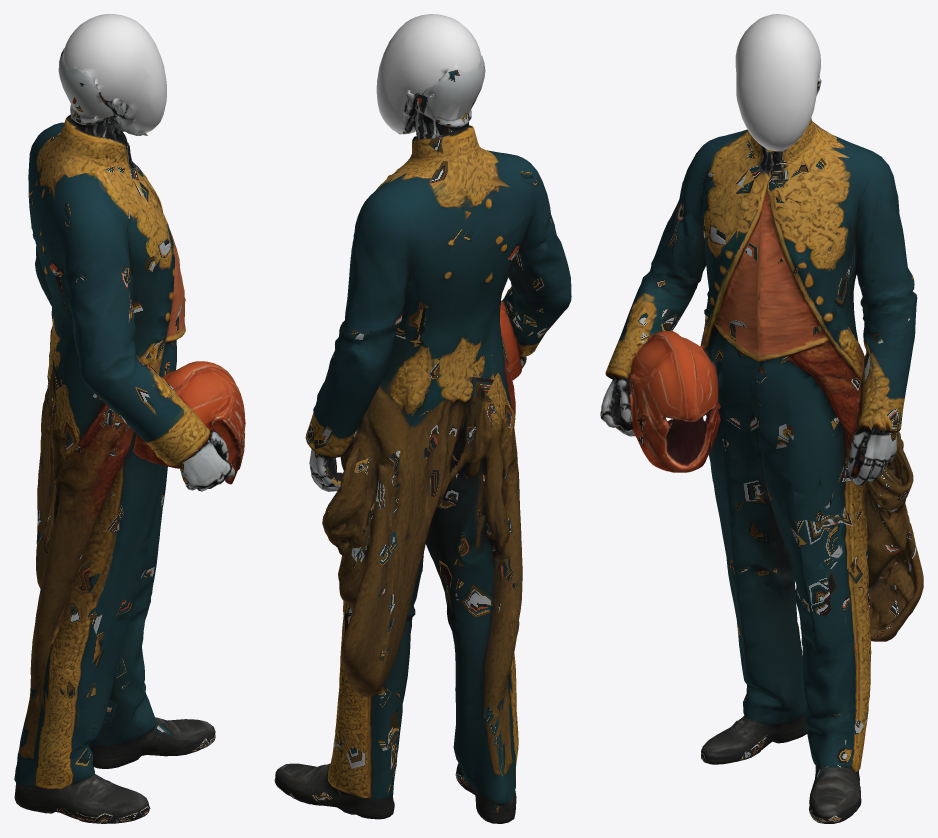
File: mainscene.gltf
The picture shows the model from 3 angles, left to right: view 1: azimuth 30°, elevation 25°; view 2: azimuth 150°, elevation 25°; view 3: azimuth 270°, elevation 25°; orthographic projection. The views are drawn at different scales.
Visible parts, largest first — view 1: tripo_node_f875dcff-99cd-4471-be17-70973e1d8990; view 2: tripo_node_f875dcff-99cd-4471-be17-70973e1d8990; view 3: tripo_node_f875dcff-99cd-4471-be17-70973e1d8990.
Boxes of the visible parts, x1=… form: tripo_node_f875dcff-99cd-4471-be17-70973e1d8990: x1=14, y1=14, x2=245, y2=823; tripo_node_f875dcff-99cd-4471-be17-70973e1d8990: x1=274, y1=14, x2=571, y2=823; tripo_node_f875dcff-99cd-4471-be17-70973e1d8990: x1=600, y1=14, x2=923, y2=823.
Bounding box in the file's own units: 0.2934 × 1.01 × 0.3949.
Materials: 2 (1 with a texture image).
